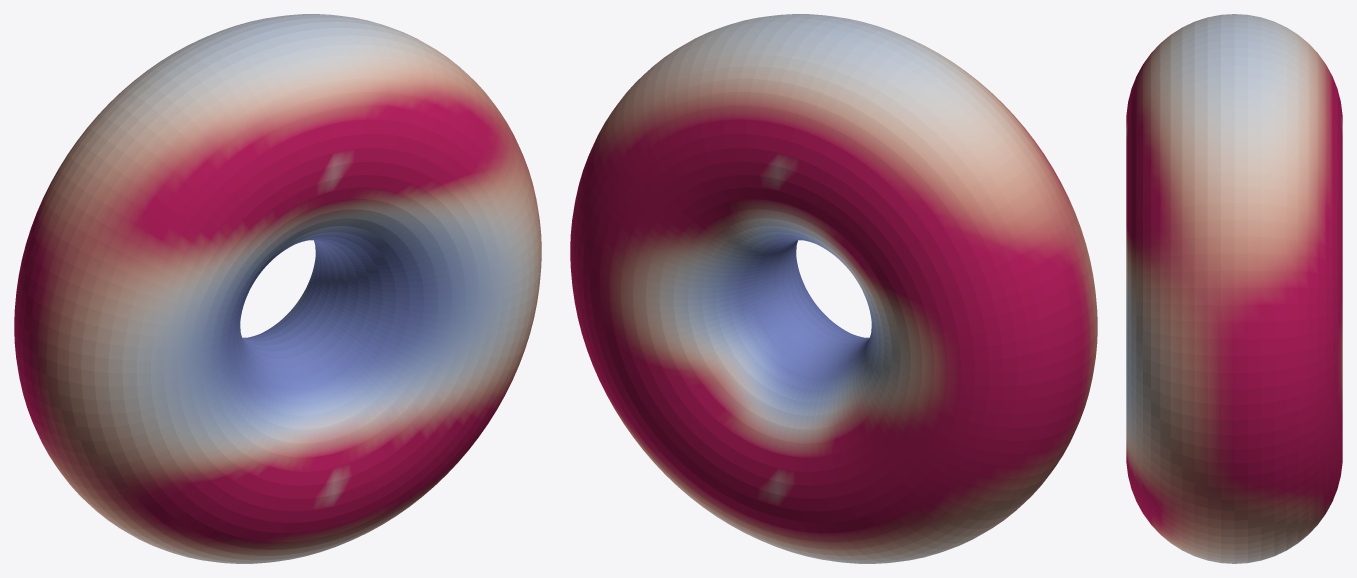
3 renders of one model, left to right at view 1: azimuth 30°, elevation 25°; view 2: azimuth 150°, elevation 25°; view 3: azimuth 270°, elevation 25°, orthographic. The views are drawn at different scales.
Visible parts, largest first — view 1: world; view 2: world; view 3: world.
Boxes of the visible parts, <box> form: world: <box>14,14,541,563</box>; world: <box>570,14,1097,563</box>; world: <box>1126,14,1342,563</box>.
Bounding box in the file's own units: 22 × 22 × 8.65.
